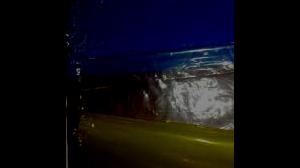Plastic: (72, 38, 233, 150), (66, 0, 234, 82), (77, 108, 234, 167)
